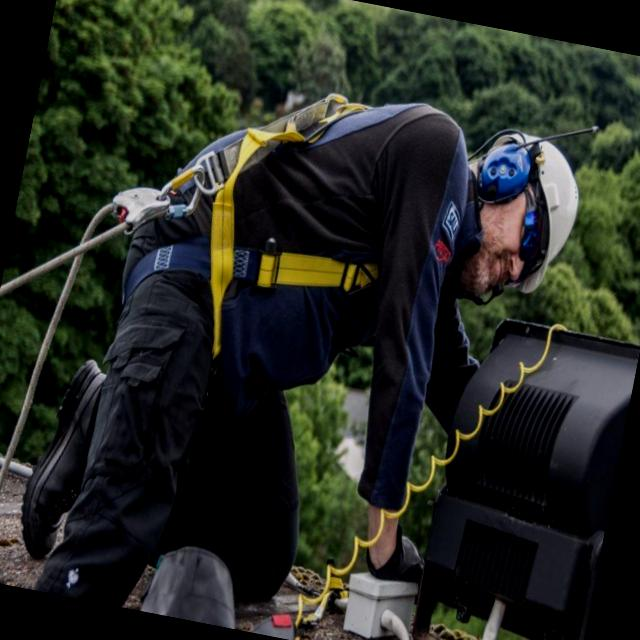helmet: (464, 119, 598, 318)
vest: (158, 67, 483, 390)
